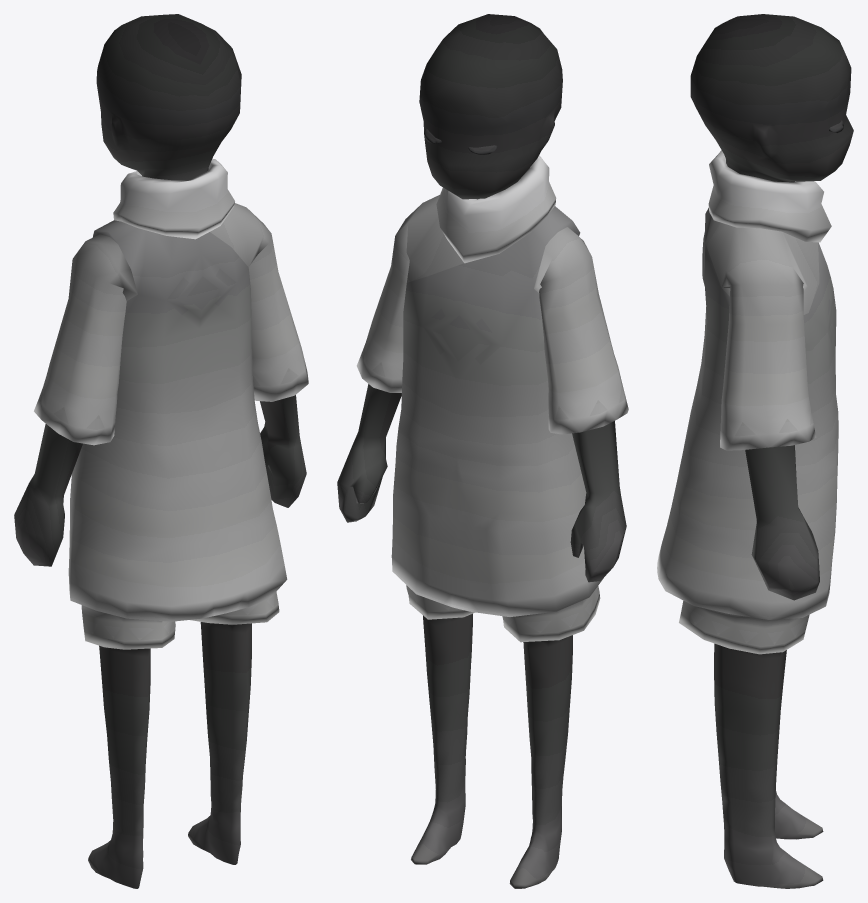
Rendered from CharSkyKid_Body_ClassicShortPants.glb.
3 views of the same model, side by side, from view 1: azimuth 30°, elevation 25°; view 2: azimuth 150°, elevation 25°; view 3: azimuth 270°, elevation 25° (orthographic).
Parts seen in each view (by area): view 1: Opaque; view 2: Opaque; view 3: Opaque.
Part boxes in pixels (<box>): Opaque: <box>14,14,308,888</box>; Opaque: <box>337,14,628,888</box>; Opaque: <box>657,14,853,888</box>.
Bounding box in the file's own units: 5.18 × 14.94 × 3.18.
Materials: 1 (1 with a texture image).
